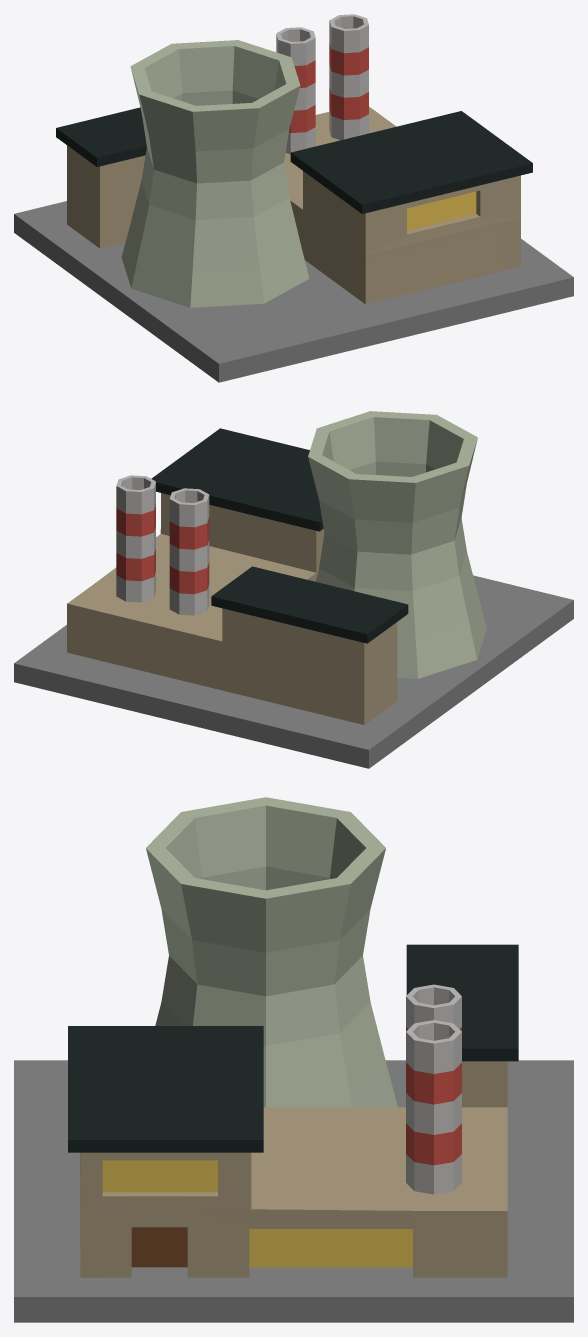
File: FactoryTier3.fbx
3 renders of one model, top to bottom at view 1: azimuth 30°, elevation 25°; view 2: azimuth 150°, elevation 25°; view 3: azimuth 270°, elevation 25°, orthographic. The views are drawn at different scales.
Visible parts, largest first — view 1: Cube.017; view 2: Cube.017; view 3: Cube.017.
Boxes of the visible parts, left/top/right/bottom form: Cube.017: left=14, top=14, right=573, bottom=382; Cube.017: left=14, top=411, right=573, bottom=768; Cube.017: left=14, top=797, right=573, bottom=1322.
Size of the model in its own units: 2000 by 1172 by 2000.
